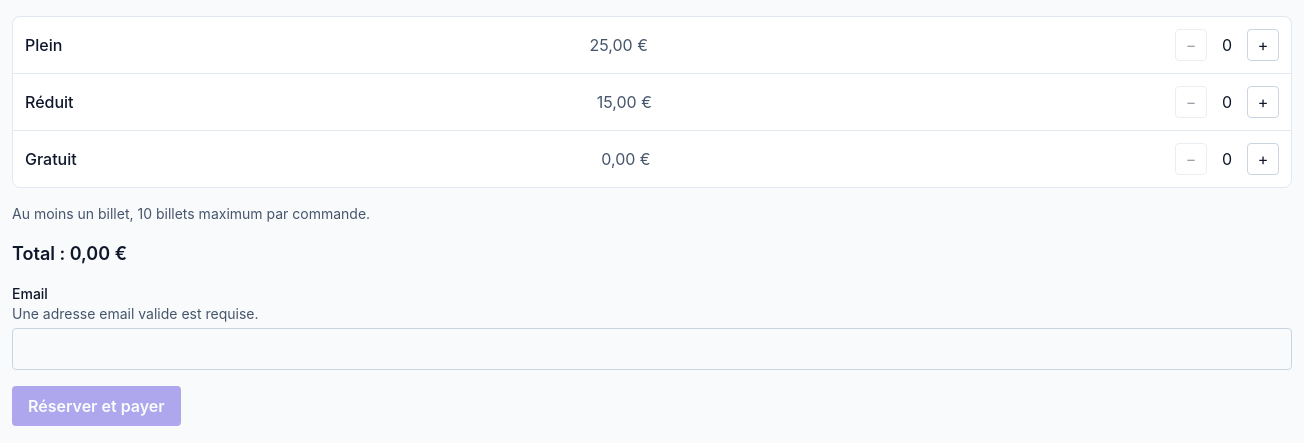
Scenario: OrderForm › computes an indicative total from the quantities
The image size is (1304, 443).
Click the button named "Ajouter un billet Plein" at (1263, 45), box [1247, 29, 1279, 61]
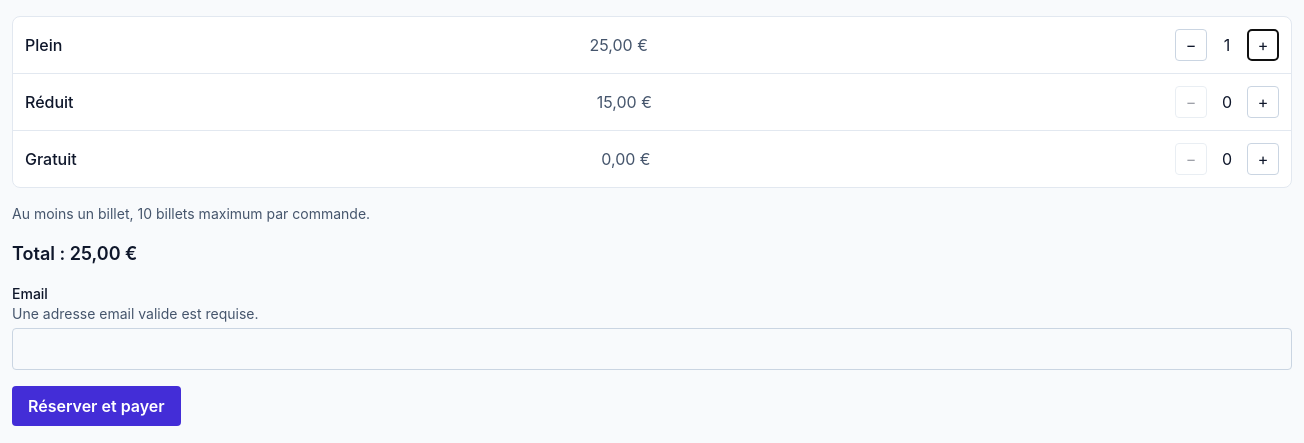
Click the button named "Ajouter un billet Réduit" at (1263, 102), box [1247, 86, 1279, 118]
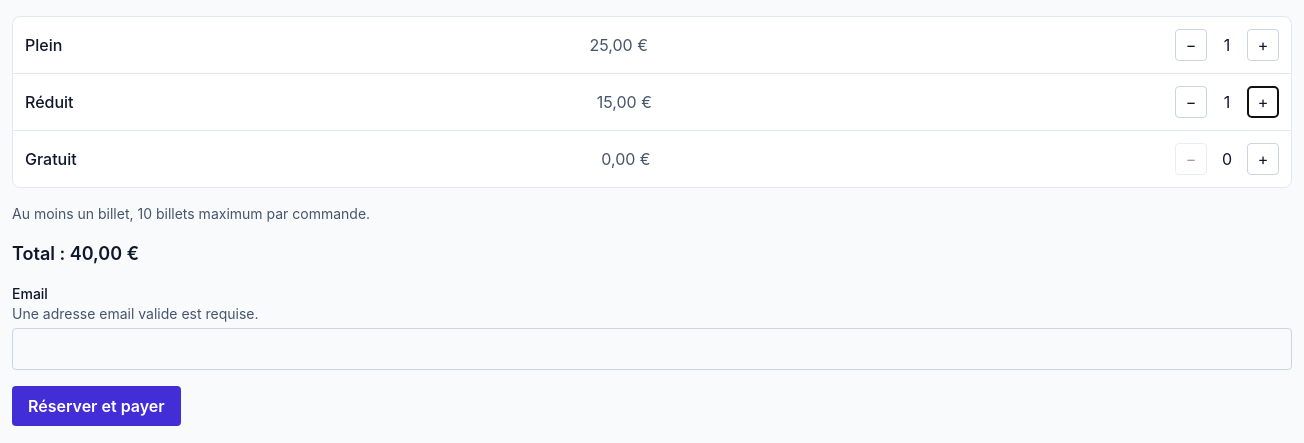
Expected: the text "Total : 40,00 €" is shown, [12, 243, 139, 264]
